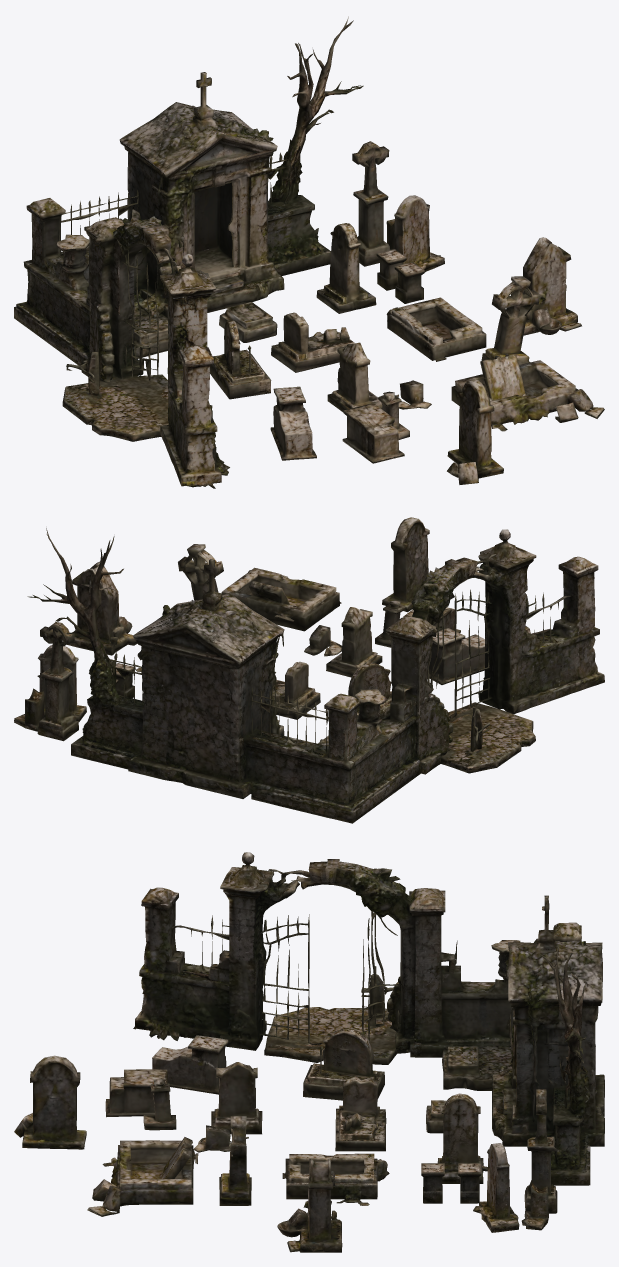
Rendered from graveyard ruins 3d model.glb.
3 views of the same model, one above another, from view 1: azimuth 30°, elevation 25°; view 2: azimuth 150°, elevation 25°; view 3: azimuth 270°, elevation 25° (orthographic). The views are drawn at different scales.
Visible parts, largest first — view 1: tripo_node_aec569e4-192c-4ebf-8b4d-a3f06e5cd925; view 2: tripo_node_aec569e4-192c-4ebf-8b4d-a3f06e5cd925; view 3: tripo_node_aec569e4-192c-4ebf-8b4d-a3f06e5cd925.
Part boxes in pixels (x1=…): tripo_node_aec569e4-192c-4ebf-8b4d-a3f06e5cd925: x1=14, y1=16, x2=604, y2=488; tripo_node_aec569e4-192c-4ebf-8b4d-a3f06e5cd925: x1=14, y1=517, x2=604, y2=823; tripo_node_aec569e4-192c-4ebf-8b4d-a3f06e5cd925: x1=14, y1=852, x2=604, y2=1252.
Size of the model in its own units: 0.9488 by 0.4455 by 0.9939.
Materials: 1 (1 with a texture image).
